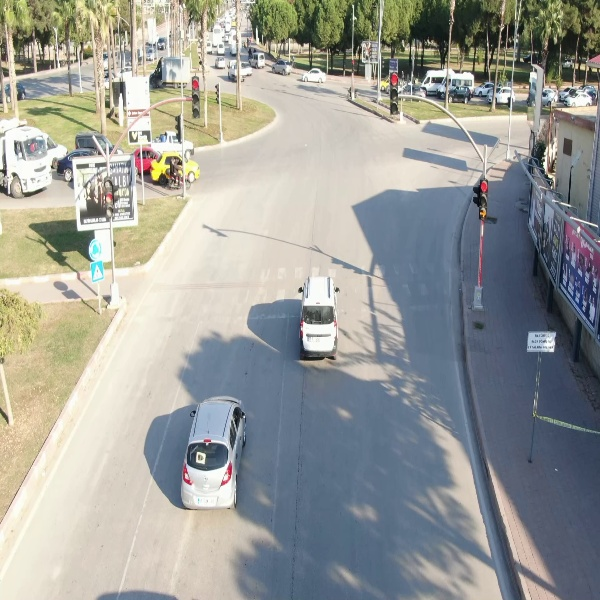car: (177, 394, 249, 513), (297, 274, 339, 366), (487, 87, 515, 106), (301, 66, 329, 83), (271, 59, 293, 76), (214, 54, 227, 70)
